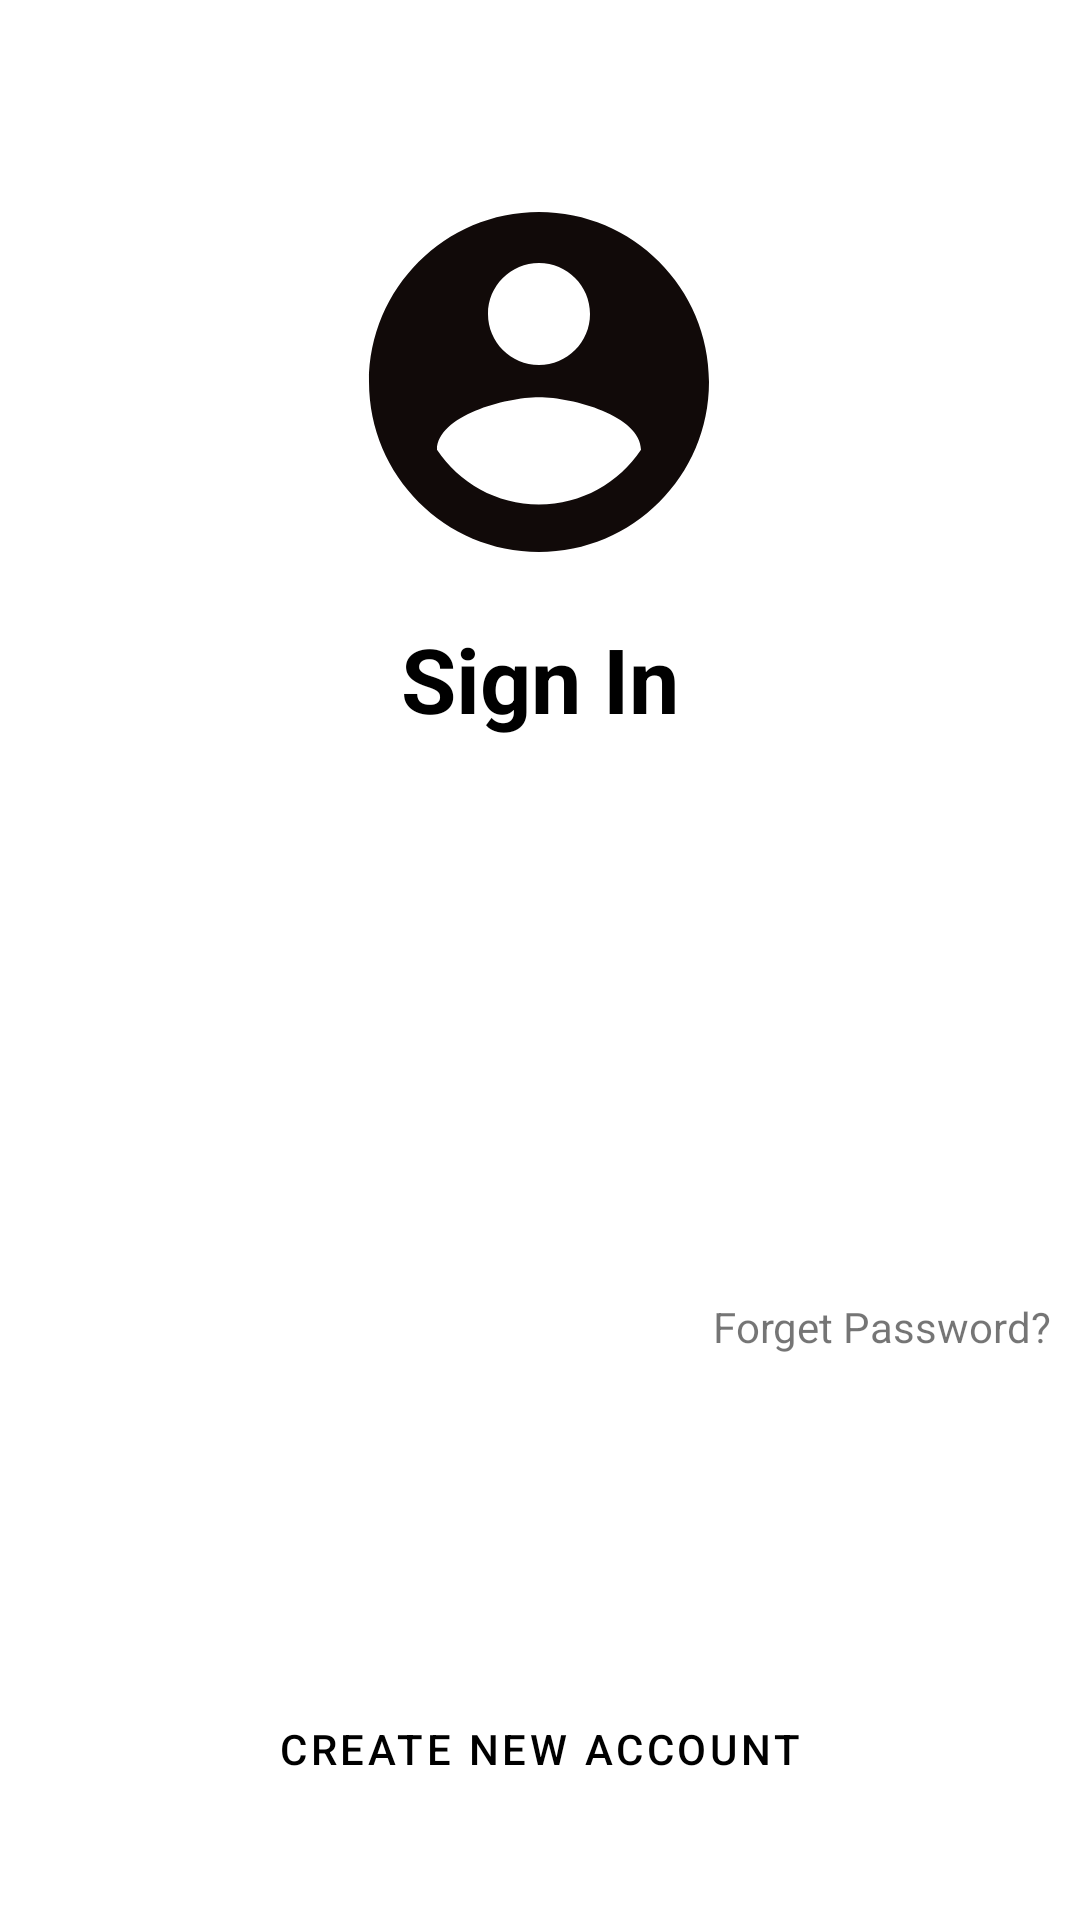

Icon click points for this 1080x1920 phone screenshot, format (x,y):
account circle: (539,382)
